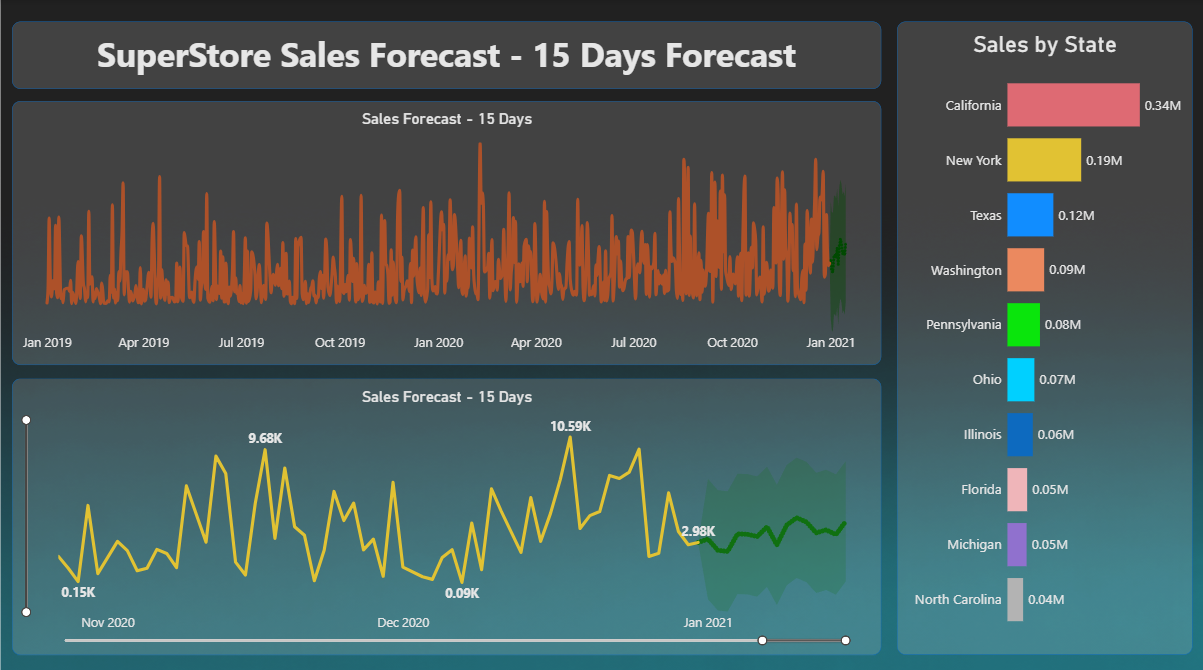

This screenshot's page, from the dashboard's own definition file:
{"tool":"powerbi","page":{"name":"Sales Forecast","canvas":[1920,1080],"ordinal":1},"visuals":[{"type":"lineChart","title":"Sales Forecast - 15 Days","fields":{"Category":["SuperStore_Sales_Dataset.Order Date"],"Y":["Sum(SuperStore_Sales_Dataset.Sales)"]},"box":[20,162.5,1382.5,420],"z":0},{"type":"lineChart","title":"Sales Forecast - 15 Days","fields":{"Category":["SuperStore_Sales_Dataset.Order Date"],"Y":["Sum(SuperStore_Sales_Dataset.Sales)"]},"box":[20,602.5,1382.5,440],"z":1000},{"type":"textbox","box":[20,35,1382.5,107.5],"z":2000},{"type":"clusteredBarChart","title":"Sales by State","fields":{"Category":["SuperStore_Sales_Dataset.State"],"Y":["Sum(SuperStore_Sales_Dataset.Sales)"]},"box":[1427.5,35,470,1007.5],"z":3000}]}

Visuals, with their boxes in screenshot pixels (x1, y1, x2, y2), scaled from the page's 1920x1080 canvas onto the 1203x670 screenshot:
"Sales Forecast - 15 Days" lineChart: 13 101 879 361
"Sales Forecast - 15 Days" lineChart: 13 374 879 647
textbox: 13 22 879 88
"Sales by State" clusteredBarChart: 894 22 1189 647
